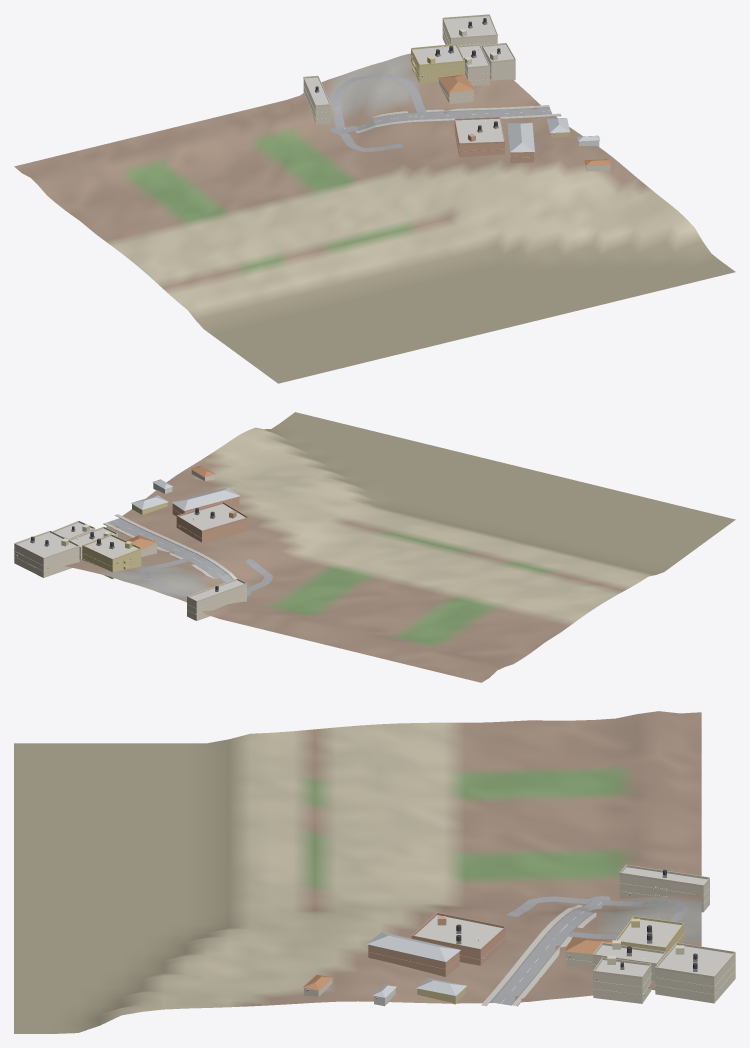
3 views of the same model, one above another, from view 1: azimuth 30°, elevation 25°; view 2: azimuth 150°, elevation 25°; view 3: azimuth 270°, elevation 25° (orthographic). The views are drawn at different scales.
Visible parts, largest first — view 1: Terrain-col, Buildings-col, Roads-col, Details, Sidewalks-col; view 2: Terrain-col, Buildings-col, Details, Roads-col, Sidewalks-col; view 3: Terrain-col, Buildings-col, Details, Roads-col, Sidewalks-col.
Part boxes in pixels (x1,y1,x2,y2): Terrain-col: [14, 53, 735, 383]; Buildings-col: [303, 16, 611, 171]; Roads-col: [330, 72, 551, 151]; Details: [303, 14, 610, 165]; Sidewalks-col: [356, 105, 561, 133]; Terrain-col: [65, 412, 735, 682]; Buildings-col: [14, 465, 248, 620]; Details: [14, 502, 248, 614]; Roads-col: [107, 518, 272, 596]; Sidewalks-col: [103, 514, 236, 579]; Terrain-col: [14, 711, 701, 1033]; Buildings-col: [303, 867, 735, 1006]; Details: [306, 864, 735, 998]; Roads-col: [490, 896, 688, 1005]; Sidewalks-col: [481, 905, 606, 1006].
Size of the model in its own units: 269 by 31.77 by 269.
